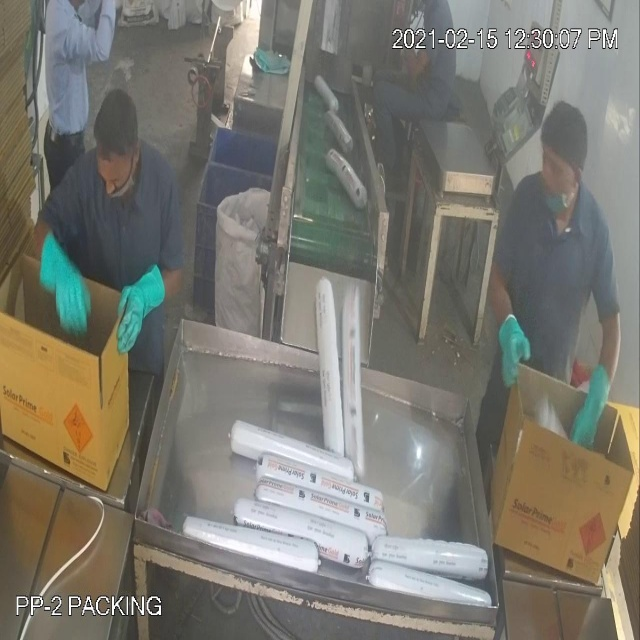Guantes: (23, 220, 96, 344), (102, 256, 172, 361), (567, 349, 616, 460), (490, 301, 535, 389)
Sin_guantes: (52, 1, 126, 66)
